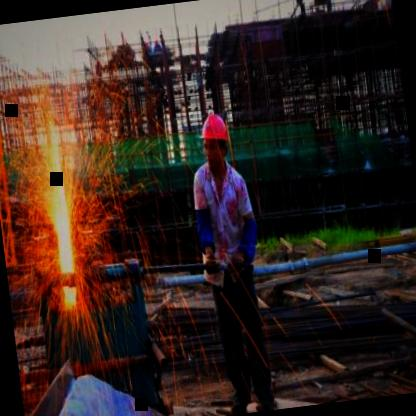helmet: (197, 106, 236, 174)
